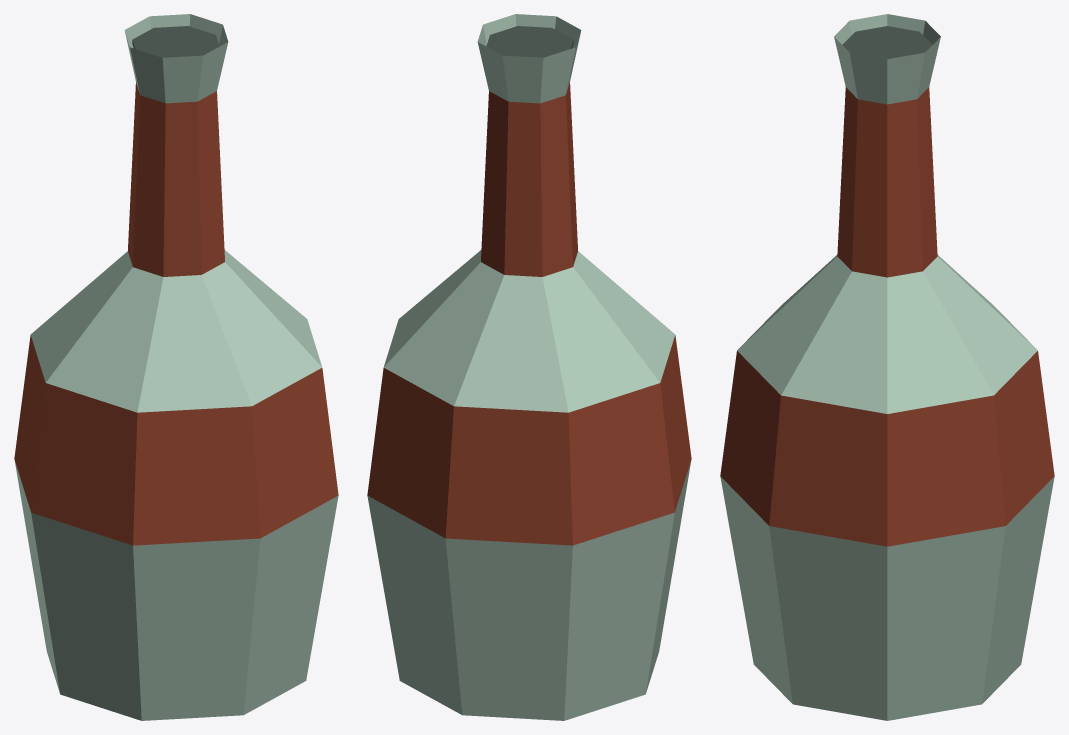
File: vase-11.glb
The picture shows the model from 3 angles, left to right: view 1: azimuth 30°, elevation 25°; view 2: azimuth 150°, elevation 25°; view 3: azimuth 270°, elevation 25°; orthographic projection.
Visible parts, largest first — view 1: vase_11; view 2: vase_11; view 3: vase_11.
Part boxes in pixels (<box>): vase_11: <box>14,14,338,720</box>; vase_11: <box>367,14,691,720</box>; vase_11: <box>720,14,1054,720</box>.
Bounding box in the file's own units: 0.2816 × 0.5833 × 0.2816.
